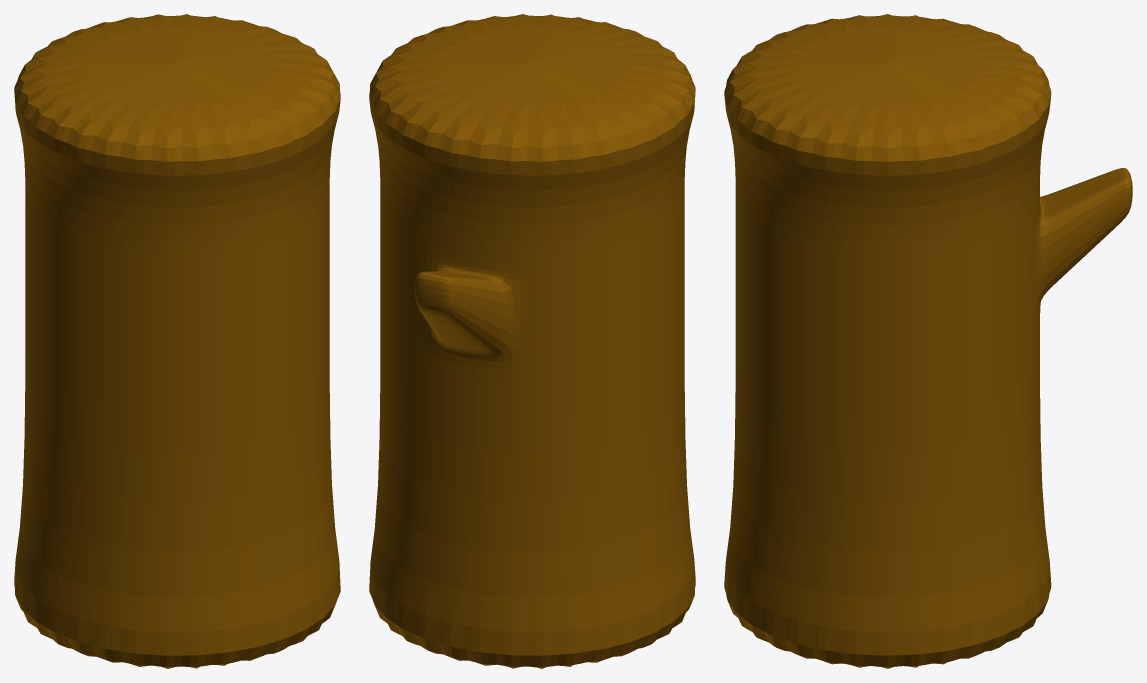
The model's file is Log.fbx.
3 renders of one model, left to right at view 1: azimuth 30°, elevation 25°; view 2: azimuth 150°, elevation 25°; view 3: azimuth 270°, elevation 25°, orthographic.
Parts seen in each view (by area): view 1: Цилиндр; view 2: Цилиндр; view 3: Цилиндр.
Boxes of the visible parts, left/top/right/bottom form: Цилиндр: left=14, top=14, right=340, bottom=668; Цилиндр: left=369, top=14, right=695, bottom=668; Цилиндр: left=724, top=14, right=1132, bottom=668.
Bounding box in the file's own units: 214 × 403 × 267.
